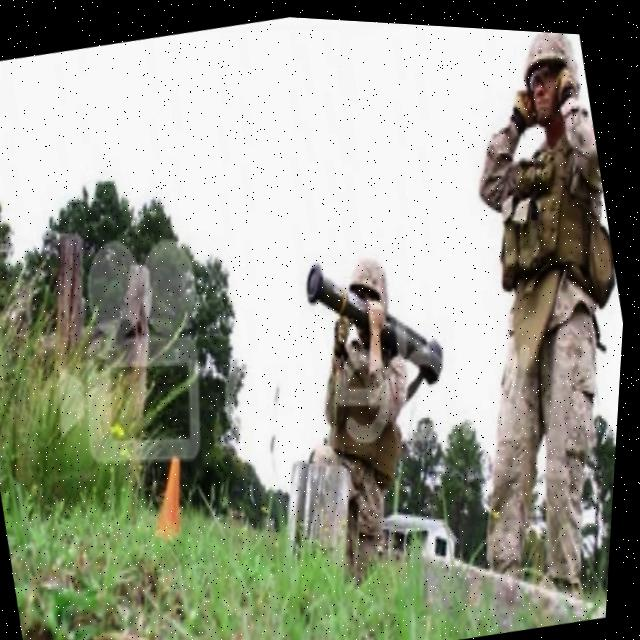rocket: (287, 231, 468, 403)
